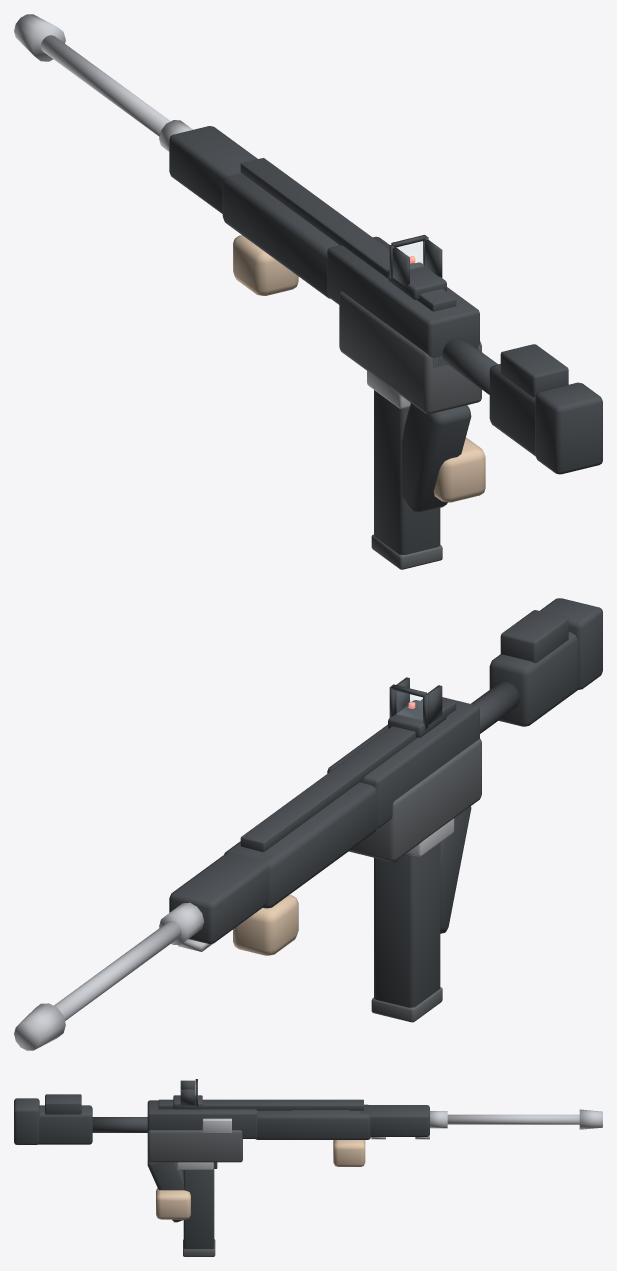
The picture shows the model from 3 angles, top to bottom: view 1: azimuth 30°, elevation 25°; view 2: azimuth 150°, elevation 25°; view 3: azimuth 270°, elevation 25°; orthographic projection. The views are drawn at different scales.
Visible parts, largest first — view 1: WeaponMesh, Mag; view 2: WeaponMesh, Mag; view 3: WeaponMesh, Mag.
Boxes of the visible parts, x1,y1,x2,y2 form: WeaponMesh: [14, 14, 602, 569]; Mag: [374, 390, 440, 554]; WeaponMesh: [14, 598, 602, 1050]; Mag: [374, 843, 440, 1007]; WeaponMesh: [14, 1079, 602, 1256]; Mag: [183, 1164, 214, 1249].
Bounding box in the file's own units: 0.059 × 0.2535 × 0.8035.
